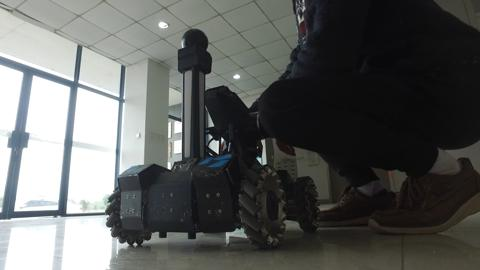chariot: (85, 26, 333, 254)
